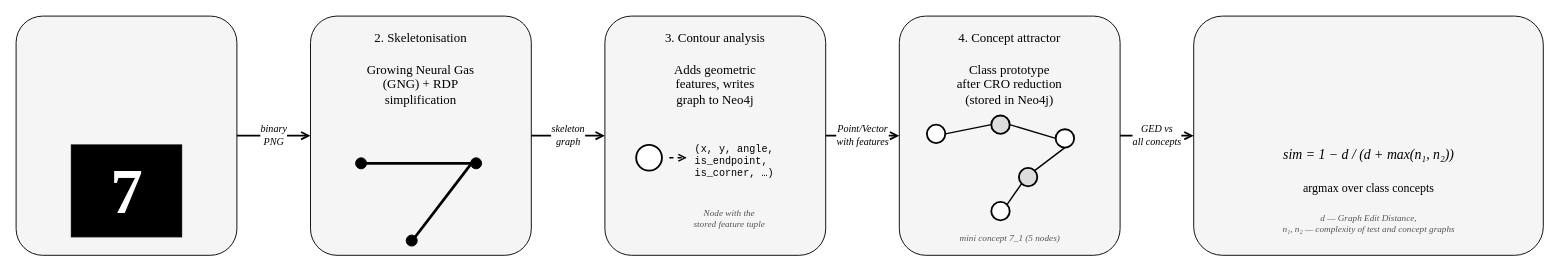
Some shapes in this 1559 by 271 pixel diagram are drawn without their labels. The shapes that lost their labels are listed below. From the top down, each one's box as (x1, y1, x2, y2) in pixels, then its label:
(15, 15, 237, 255): 1. Input Raster image 100×100 px
(1193, 15, 1543, 255): 5. Classification GED + Boria similarity, complexity-adjusted
